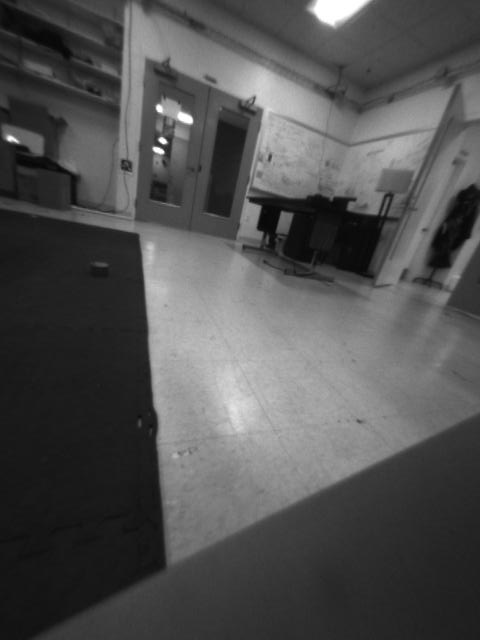dogtoy: (84, 251, 122, 285)
